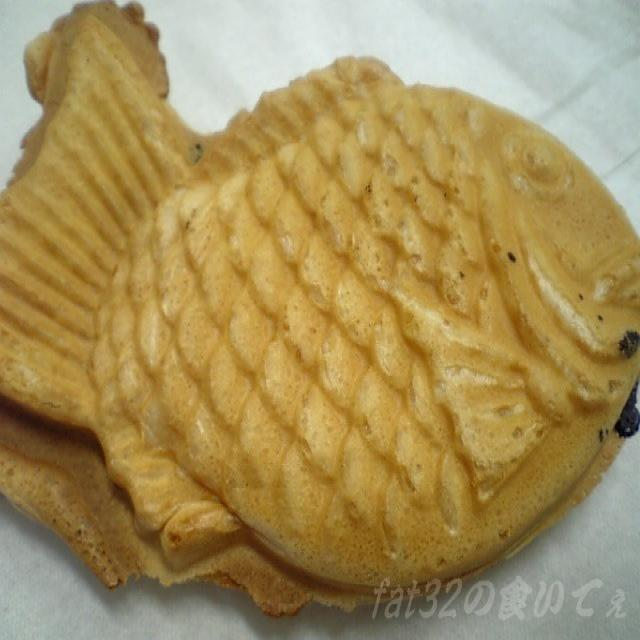熟制海鲜: (0, 0, 640, 620)
